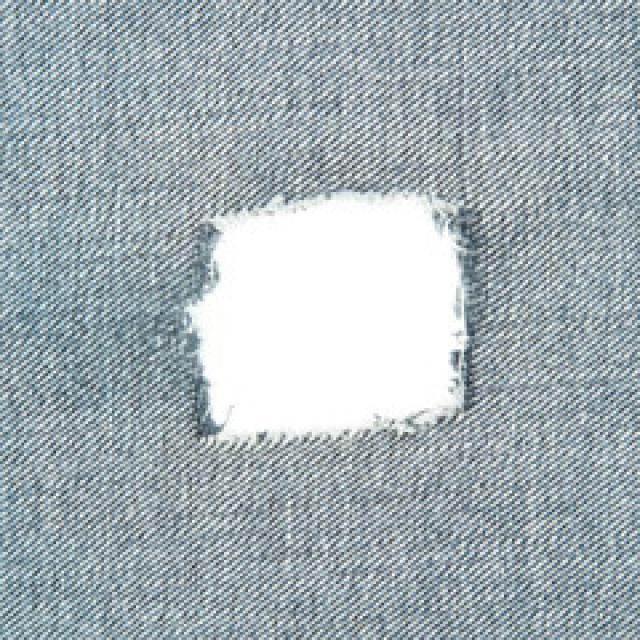Hole: (182, 192, 474, 443)
